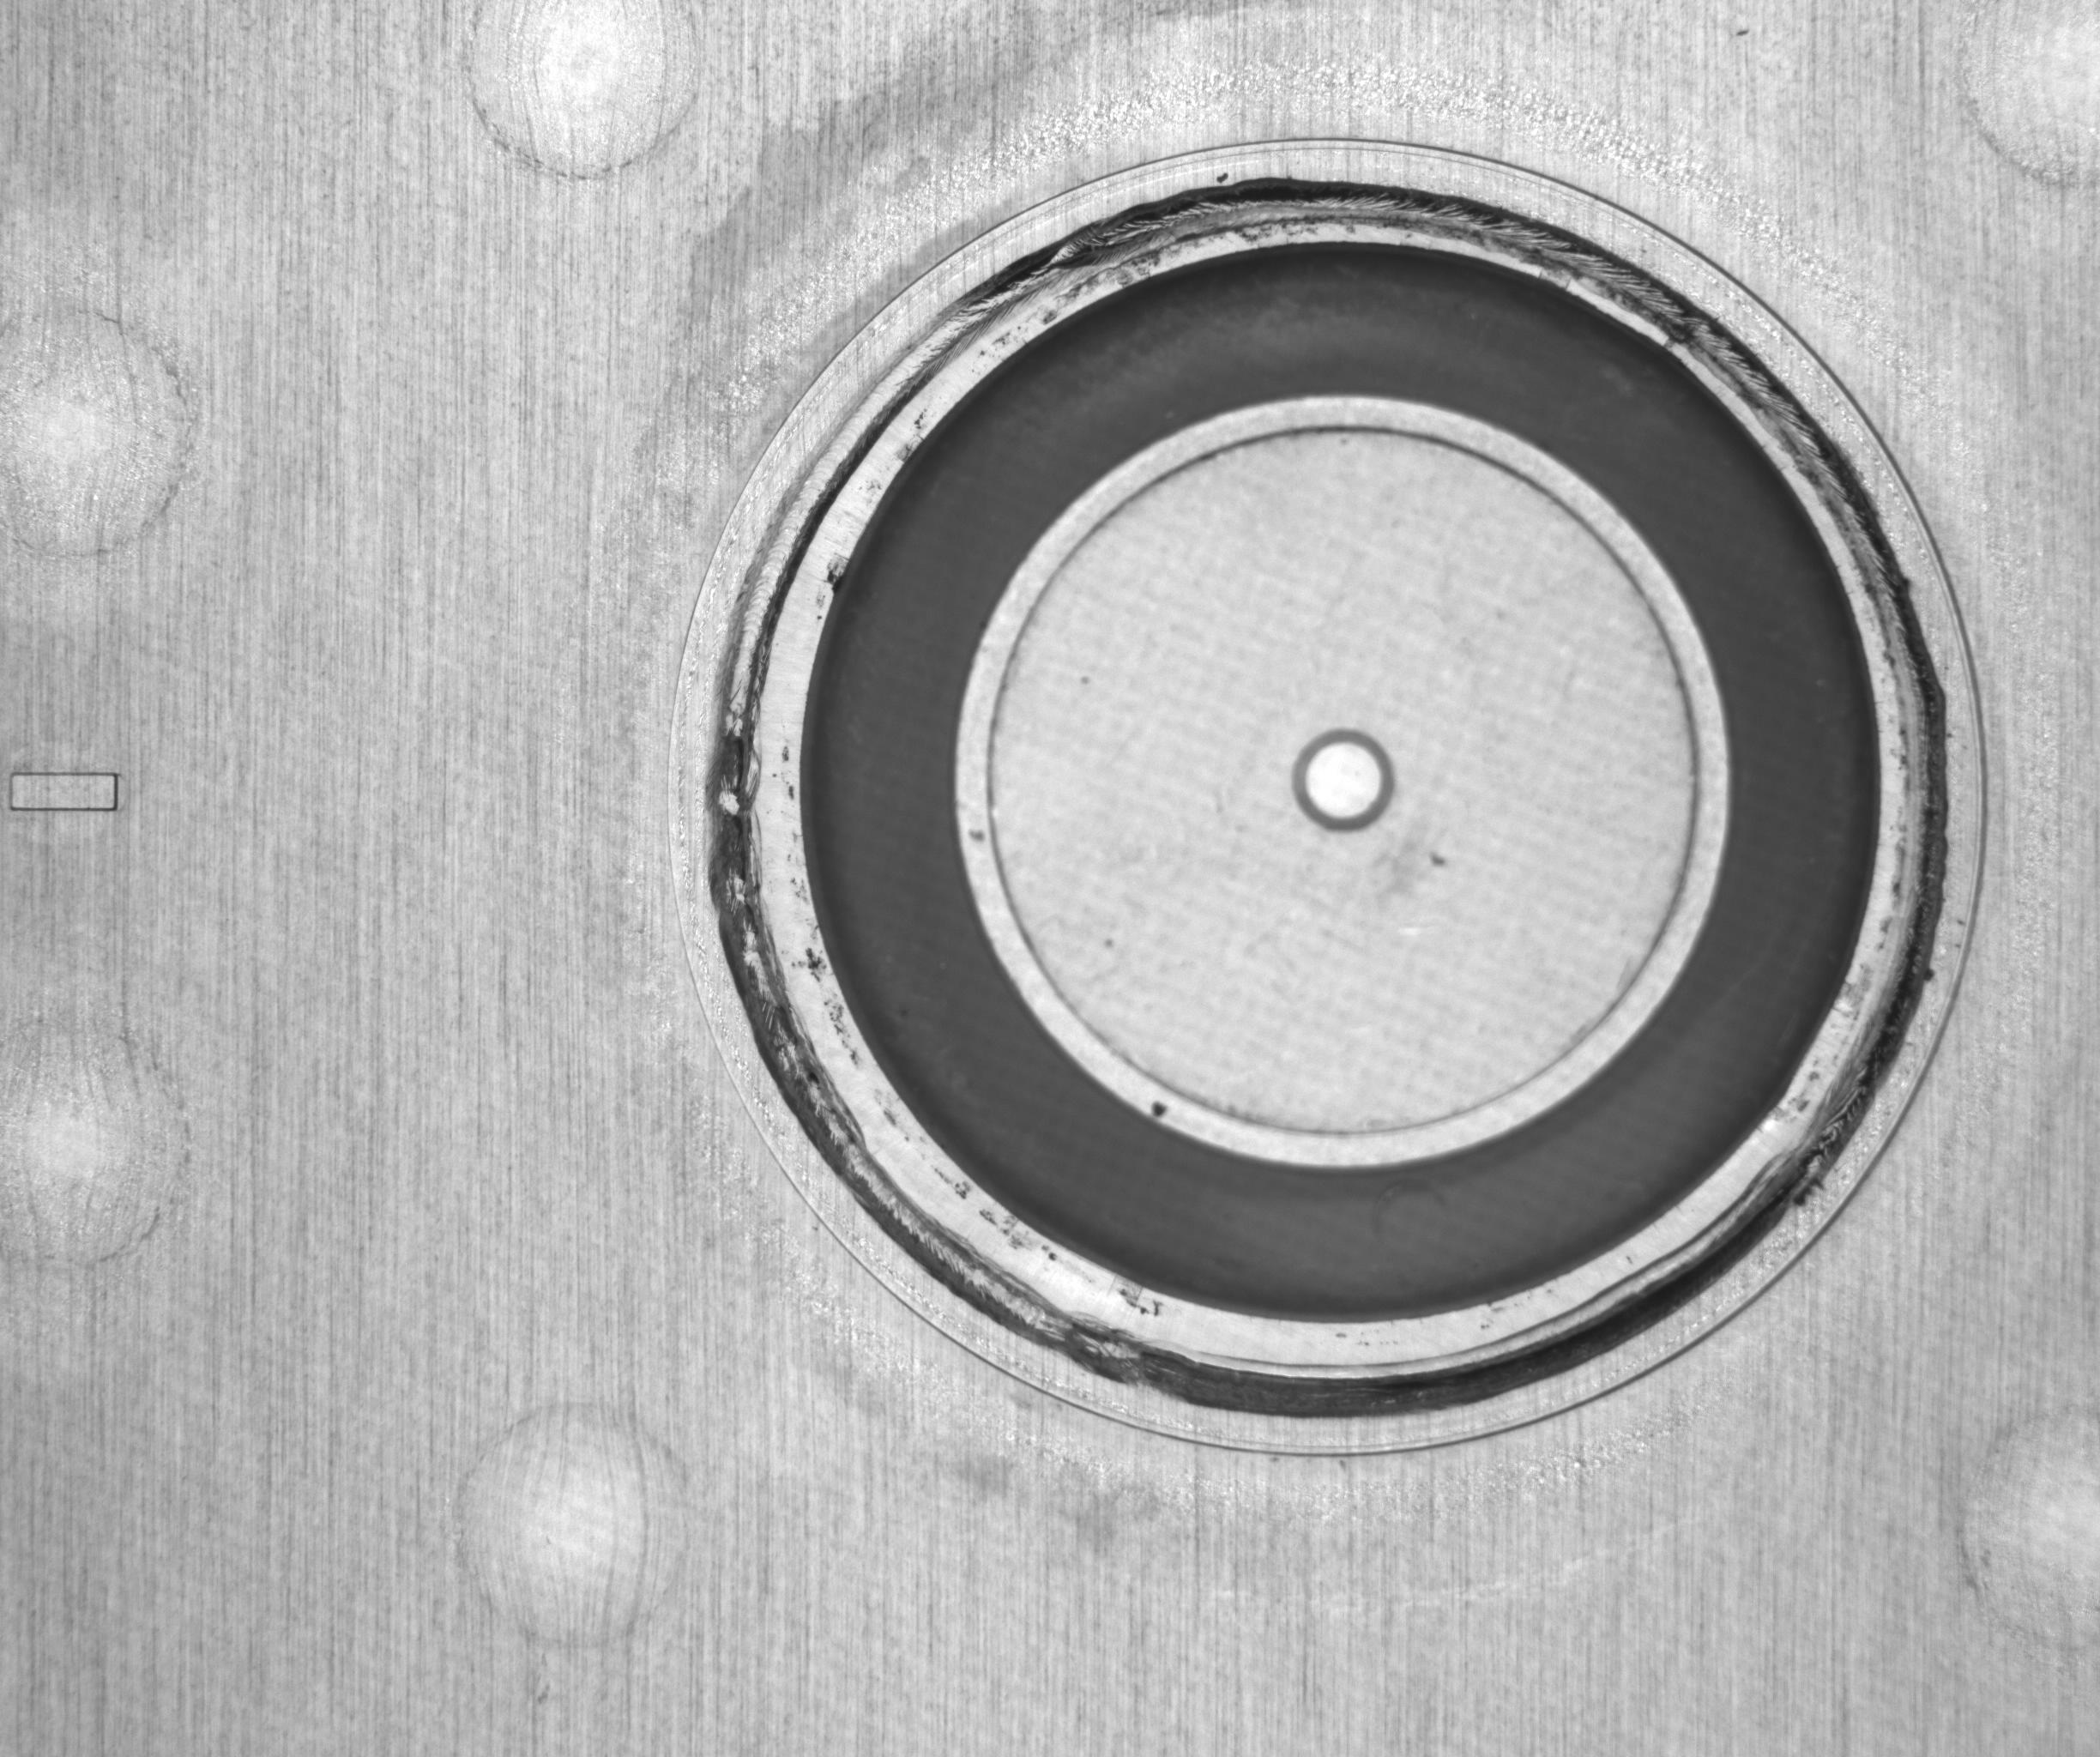weldtoohigh: (623, 112, 2023, 1469)
